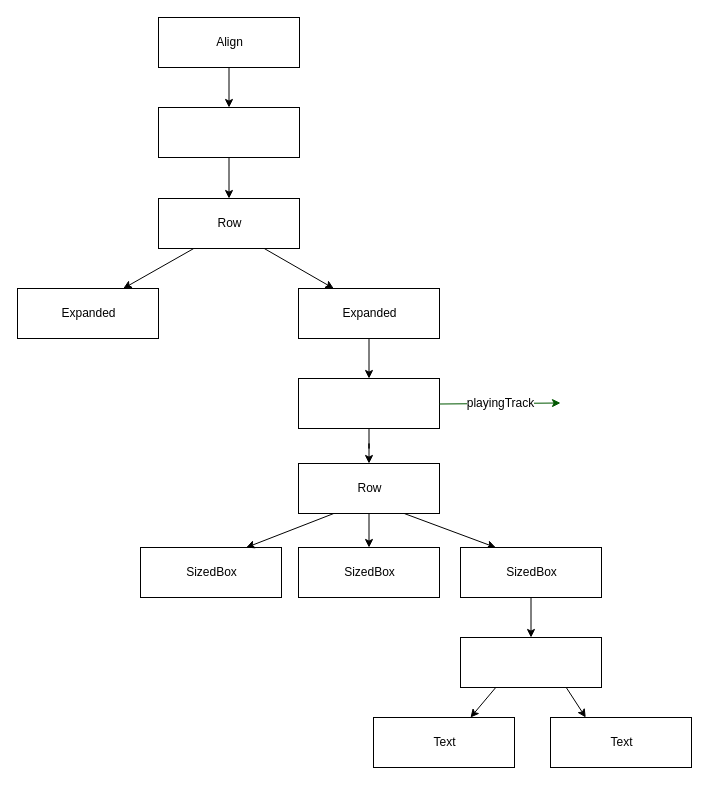
Image size: 709x785. Some labels were removed from this diagram. The box of each missing label's shape, as (x1, y1, x2, y2) in pixels:
Column: (460, 636, 602, 688)
Container: (158, 106, 300, 158)
IconButton: (298, 378, 440, 428)
